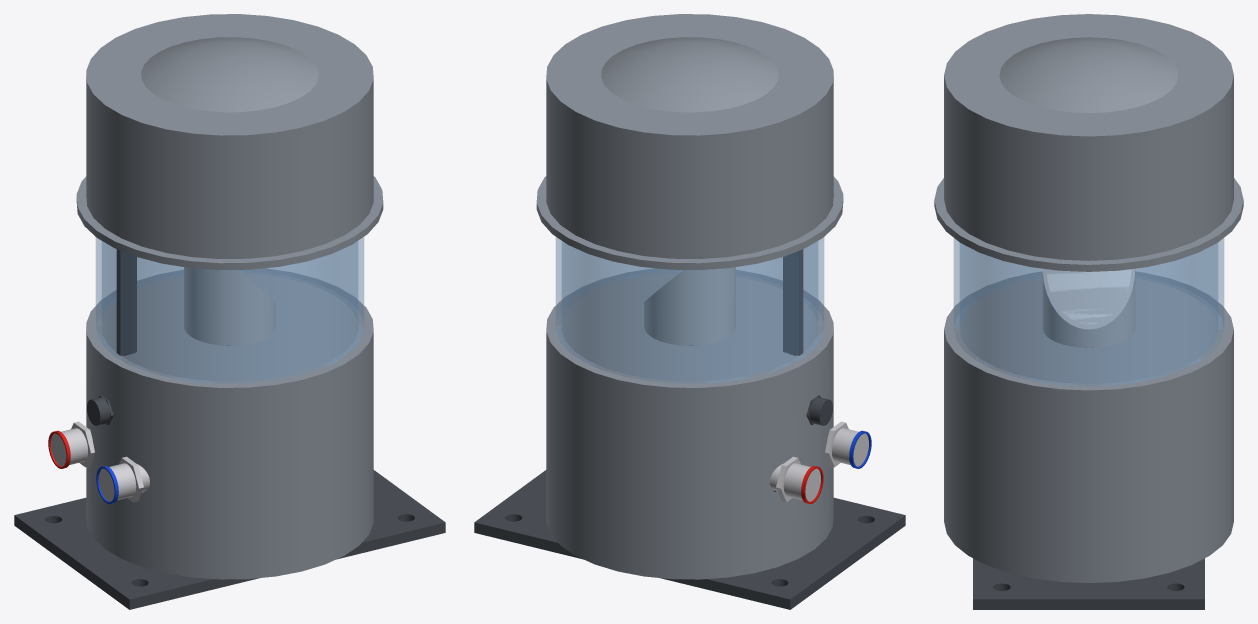
File: lidar_v4.glb
The picture shows the model from 3 angles, left to right: view 1: azimuth 30°, elevation 25°; view 2: azimuth 150°, elevation 25°; view 3: azimuth 270°, elevation 25°; orthographic projection.
Parts seen in each view (by area): view 1: vo_de, nap, ong_cua_so, tam_gan_day, coc_guong, gan_luon_day, m12_ethernet, m12_nguon_24v, van_tho; view 2: vo_de, nap, ong_cua_so, tam_gan_day, coc_guong, gan_luon_day, m12_nguon_24v, m12_ethernet, van_tho; view 3: vo_de, nap, ong_cua_so, tam_gan_day, coc_guong, guong_45.
Boxes of the visible parts, box(x1,y1,x2,y2) form: vo_de: box(86, 268, 373, 579); nap: box(76, 14, 383, 270); ong_cua_so: box(96, 237, 363, 383); tam_gan_day: box(14, 470, 445, 609); coc_guong: box(184, 267, 275, 345); gan_luon_day: box(116, 249, 136, 355); m12_ethernet: box(99, 456, 149, 502); m12_nguon_24v: box(51, 421, 94, 467); van_tho: box(87, 395, 113, 425); vo_de: box(546, 268, 833, 579); nap: box(536, 14, 843, 270); ong_cua_so: box(556, 237, 823, 383); tam_gan_day: box(474, 470, 905, 609); coc_guong: box(644, 267, 735, 345); gan_luon_day: box(783, 249, 803, 355); m12_nguon_24v: box(770, 456, 820, 502); m12_ethernet: box(825, 421, 868, 467); van_tho: box(806, 395, 832, 425); vo_de: box(944, 272, 1233, 582); nap: box(934, 14, 1243, 271); ong_cua_so: box(954, 238, 1223, 385); tam_gan_day: box(973, 558, 1204, 609); coc_guong: box(1042, 268, 1135, 347); guong_45: box(1047, 269, 1131, 324).
Bounding box in the file's own units: 190 × 271 × 160.
